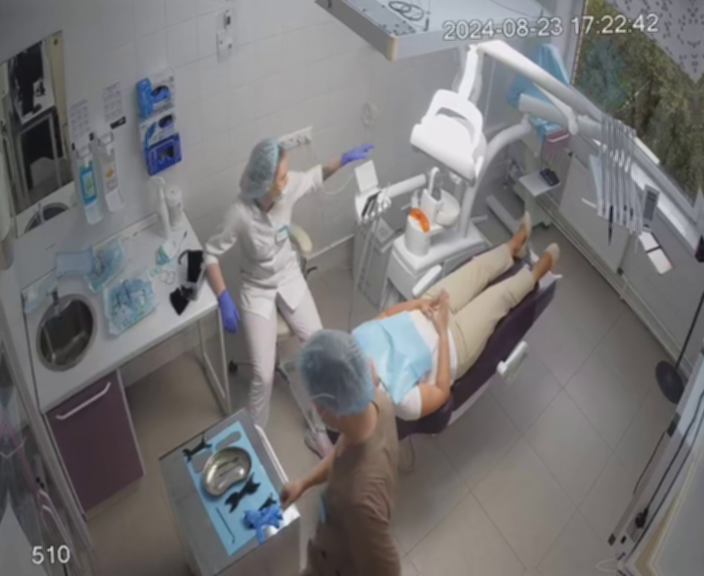Patient: (316, 210, 566, 437)
